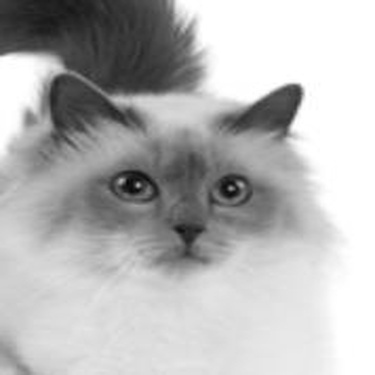cat: (4, 1, 331, 364)
